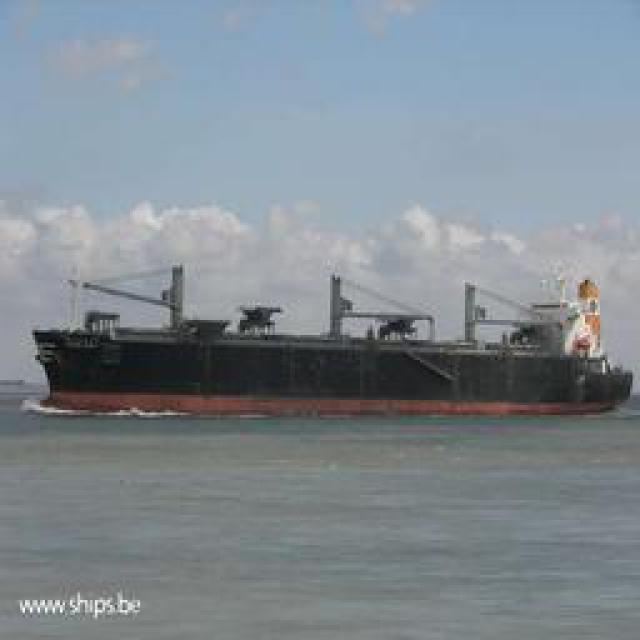Ship: (19, 271, 632, 426)
